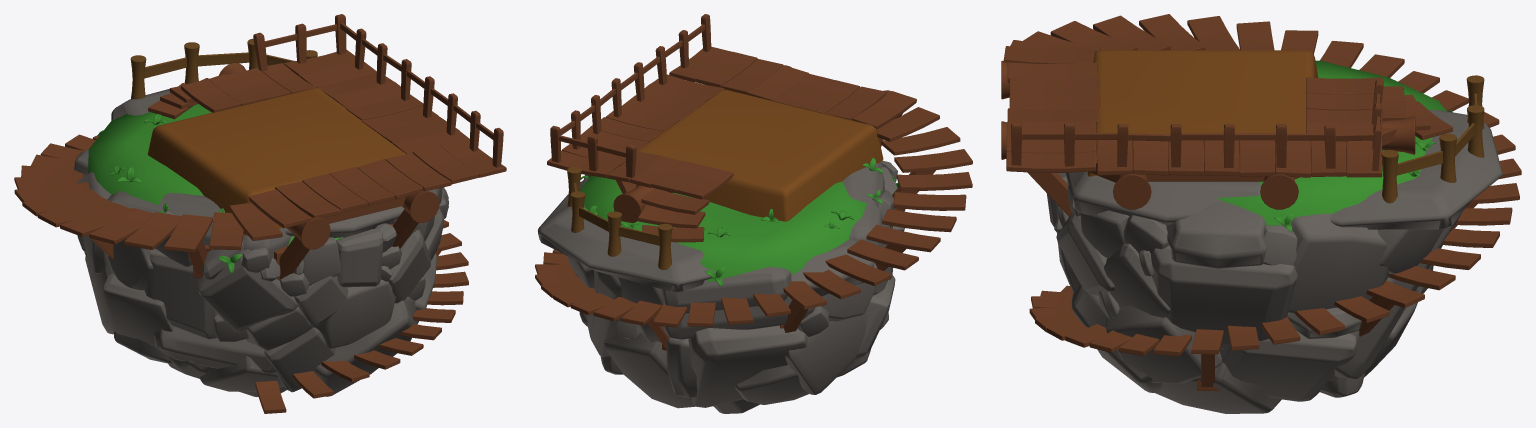
Rendered from RockyBase-col.gltf.
The picture shows the model from 3 angles, left to right: view 1: azimuth 30°, elevation 25°; view 2: azimuth 150°, elevation 25°; view 3: azimuth 270°, elevation 25°; orthographic projection. The views are drawn at different scales.
Parts seen in each view (by area): view 1: RockyBase-col; view 2: RockyBase-col; view 3: RockyBase-col.
Part boxes in pixels (x1,y1,x2,y2): RockyBase-col: (14, 14, 506, 413); RockyBase-col: (535, 14, 972, 413); RockyBase-col: (1001, 14, 1521, 413).
Bounding box in the file's own units: 4.51 × 3.4 × 4.51.
